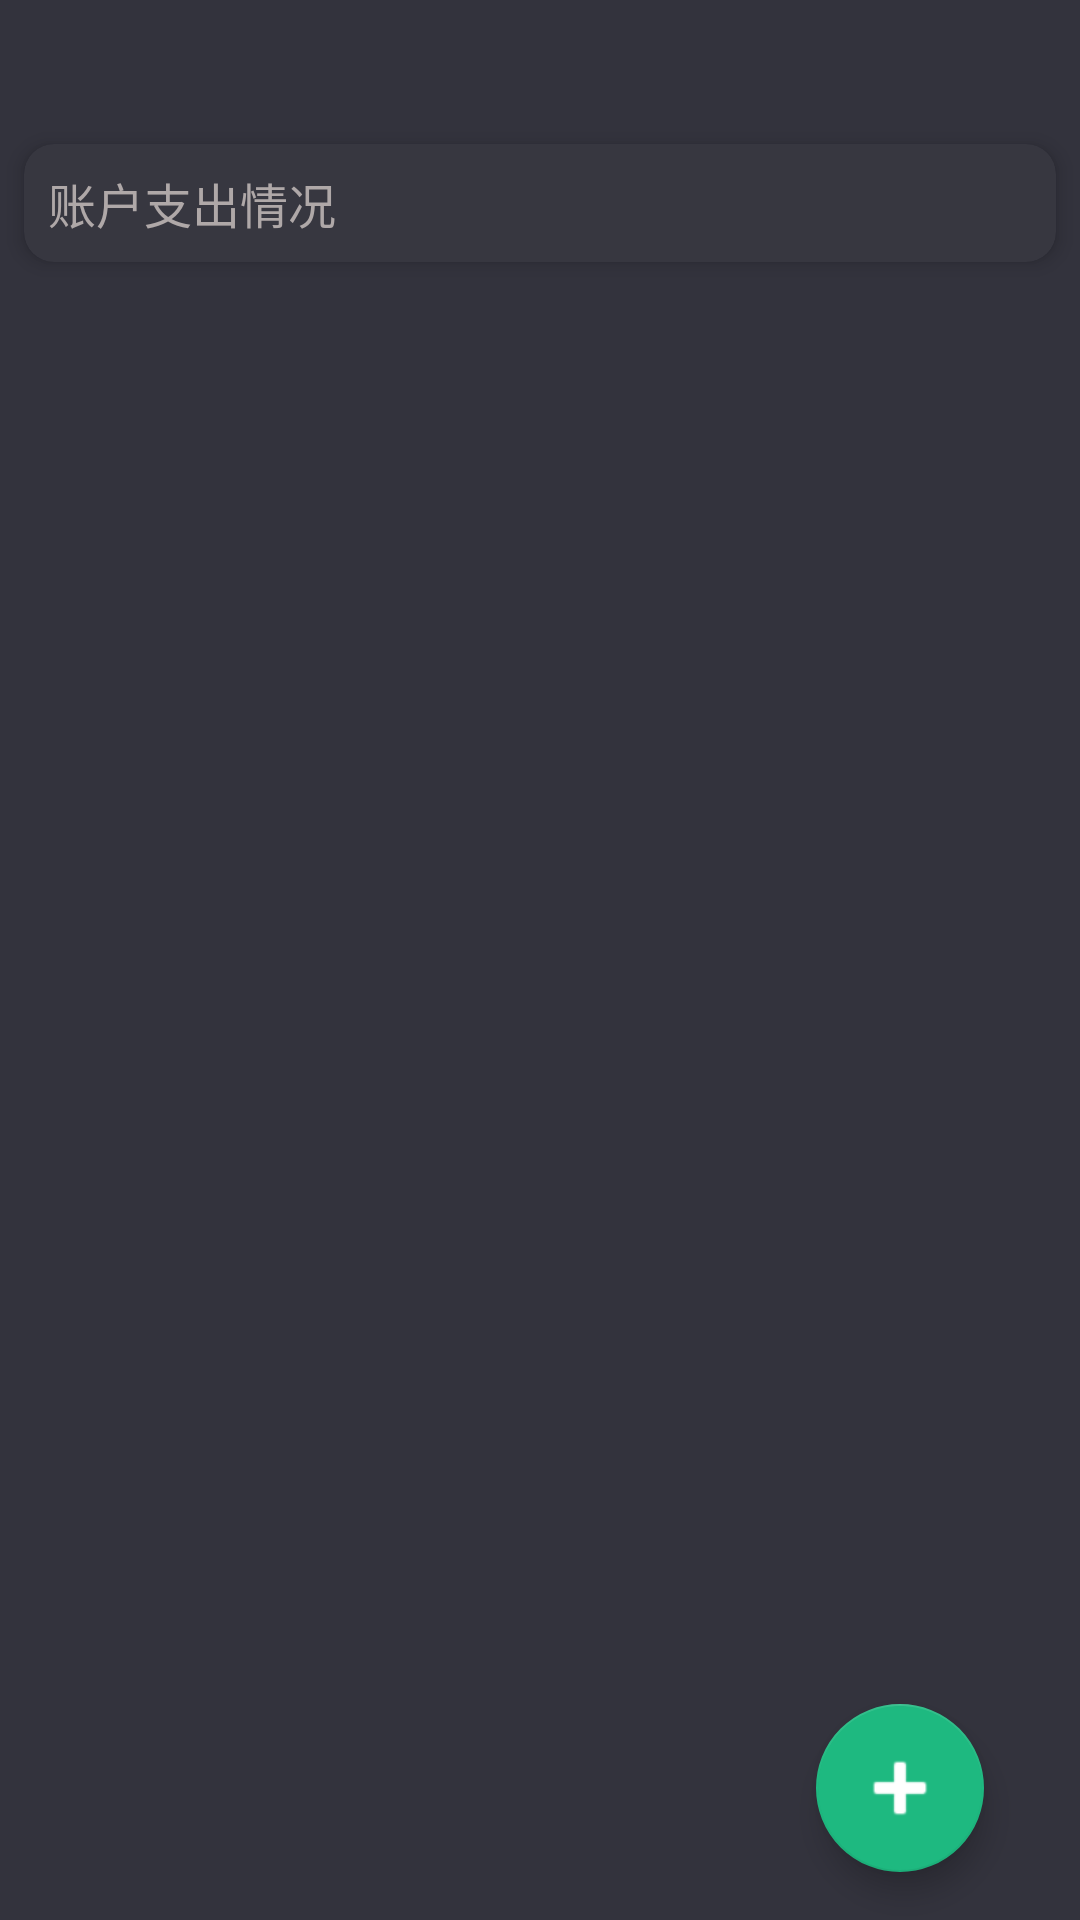

Icon bounding boxes for this 1080 × 1920 phone screenshot, format (x1, y1, x2, y2):
add: (816, 1704, 984, 1872)
